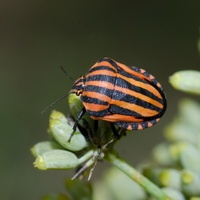insect: (65, 57, 166, 147)
